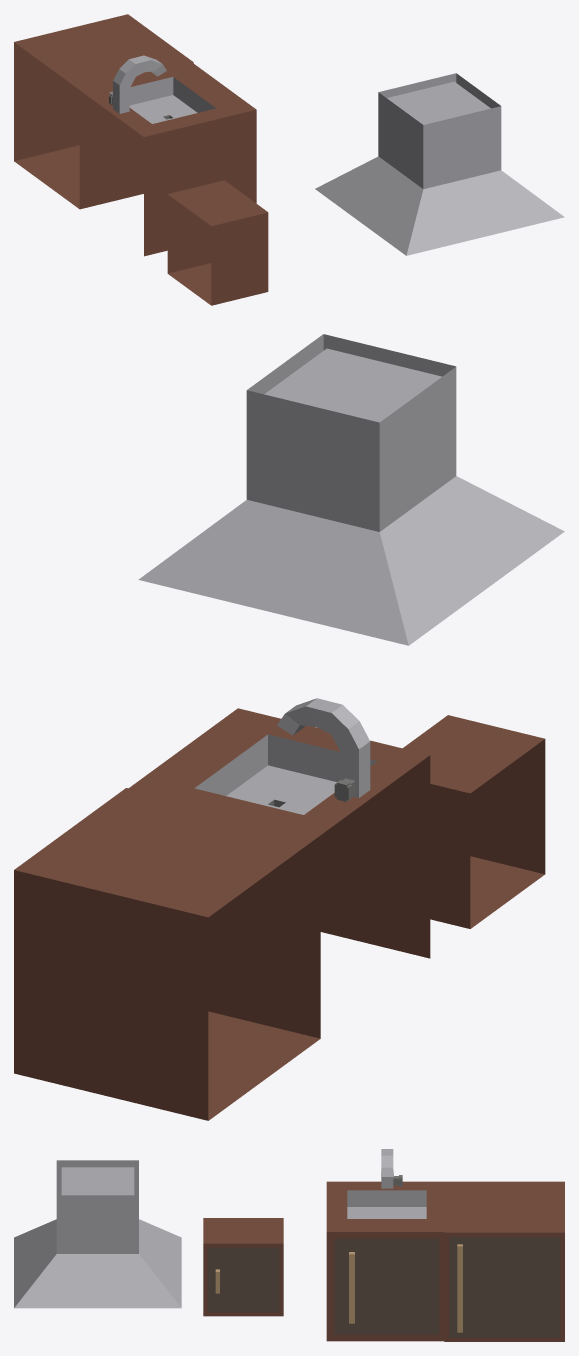
File: Cozinha.fbx
3 renders of one model, top to bottom at view 1: azimuth 30°, elevation 25°; view 2: azimuth 150°, elevation 25°; view 3: azimuth 270°, elevation 25°, orthographic. The views are drawn at different scales.
Visible parts, largest first — view 1: Coifa, Pia, Gabinete maior, Gabinete; view 2: Gabinete maior, Coifa, Pia, Gabinete; view 3: Pia, Gabinete maior, Coifa, Gabinete.
Part boxes in pixels (<box>): Coifa: <box>315,73,564,255</box>; Pia: <box>79,55,256,256</box>; Gabinete maior: <box>14,14,193,208</box>; Gabinete: <box>167,180,268,305</box>; Gabinete maior: <box>14,788,320,1120</box>; Coifa: <box>138,334,564,645</box>; Pia: <box>129,698,430,958</box>; Gabinete: <box>403,715,545,928</box>; Pia: <box>326,1149,444,1341</box>; Gabinete maior: <box>444,1181,564,1341</box>; Coifa: <box>14,1160,181,1308</box>; Gabinete: <box>203,1218,283,1316</box>.
Bounding box in the file's own units: 1317 × 1041 × 2741.
